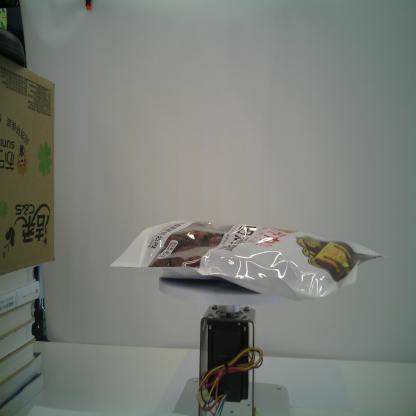Dried Food: (108, 216, 386, 306)
